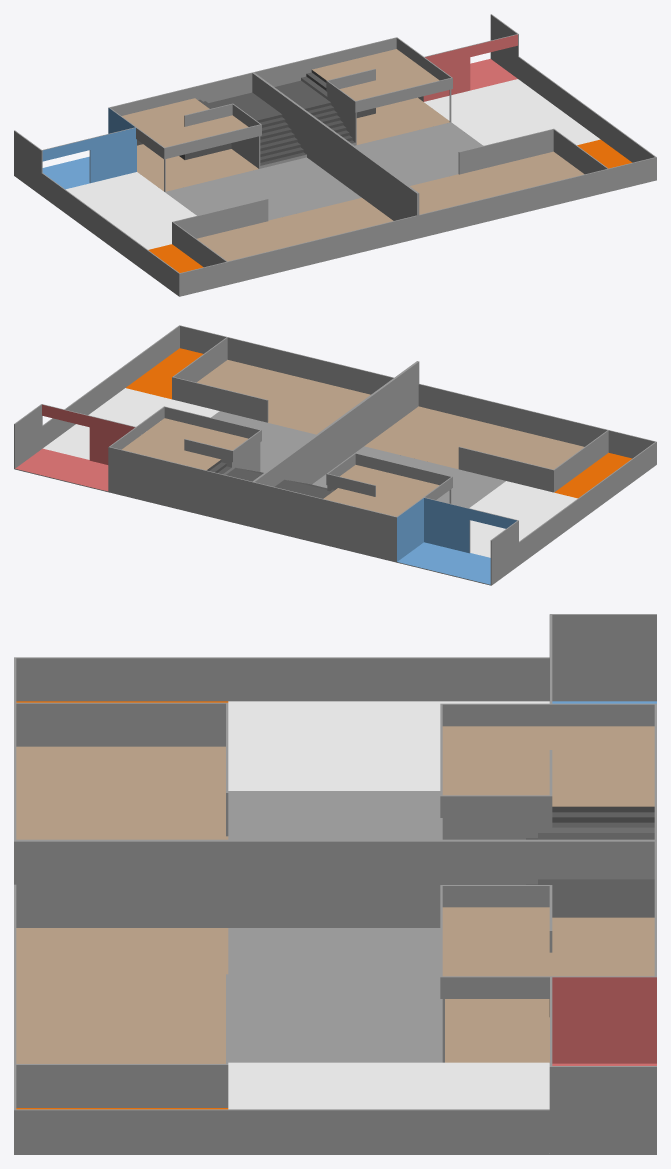
Rendered from world.obj.
3 views of the same model, one above another, from view 1: azimuth 30°, elevation 25°; view 2: azimuth 150°, elevation 25°; view 3: azimuth 270°, elevation 25° (orthographic). The views are drawn at different scales.
Visible parts, largest first — view 1: ソリッド1; view 2: ソリッド1; view 3: ソリッド1.
Part boxes in pixels (<box>): ソリッド1: <box>14,14,656,296</box>; ソリッド1: <box>14,325,656,585</box>; ソリッド1: <box>14,614,656,1154</box>.
Size of the model in its own units: 9 by 0.814 by 5.4.
